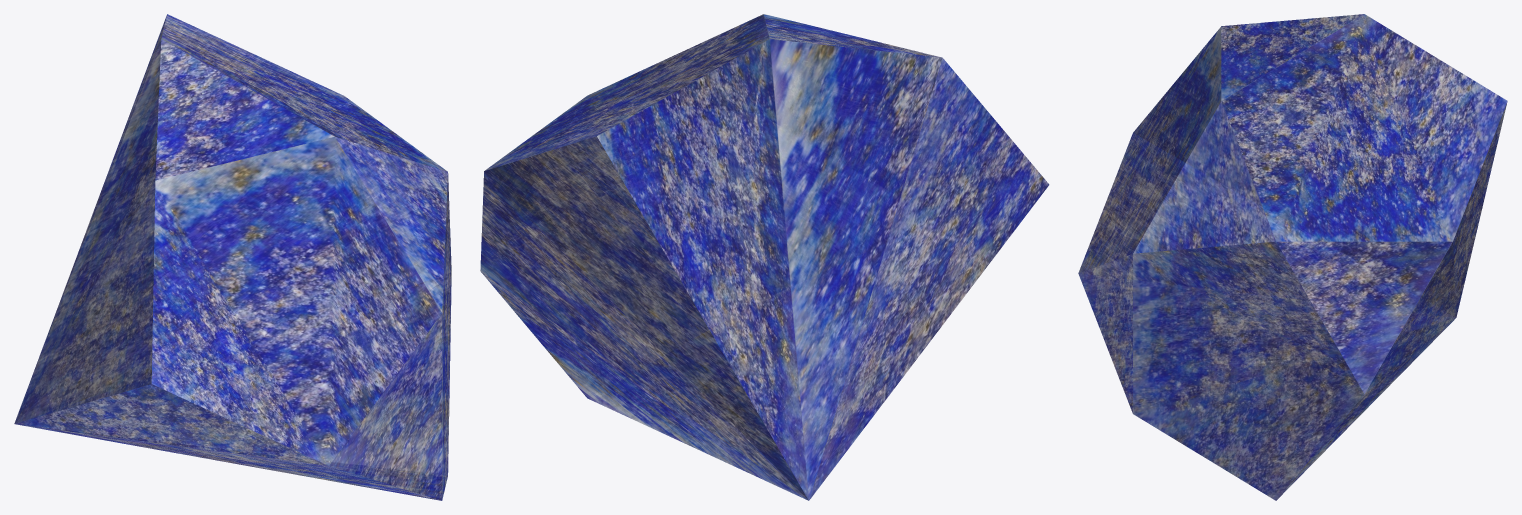
File: TriangularHebesphenorotunda1.obj
3 renders of one model, left to right at view 1: azimuth 30°, elevation 25°; view 2: azimuth 150°, elevation 25°; view 3: azimuth 270°, elevation 25°, orthographic. The views are drawn at different scales.
Bounding box in the file's own units: 2.43 × 2.43 × 2.43.
1 material, 1 textured.
